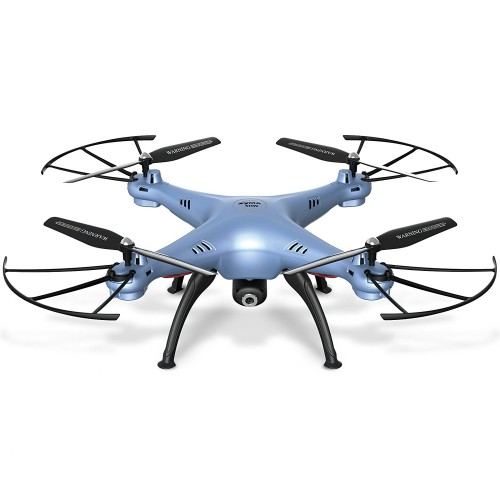drone: (2, 117, 500, 385)
